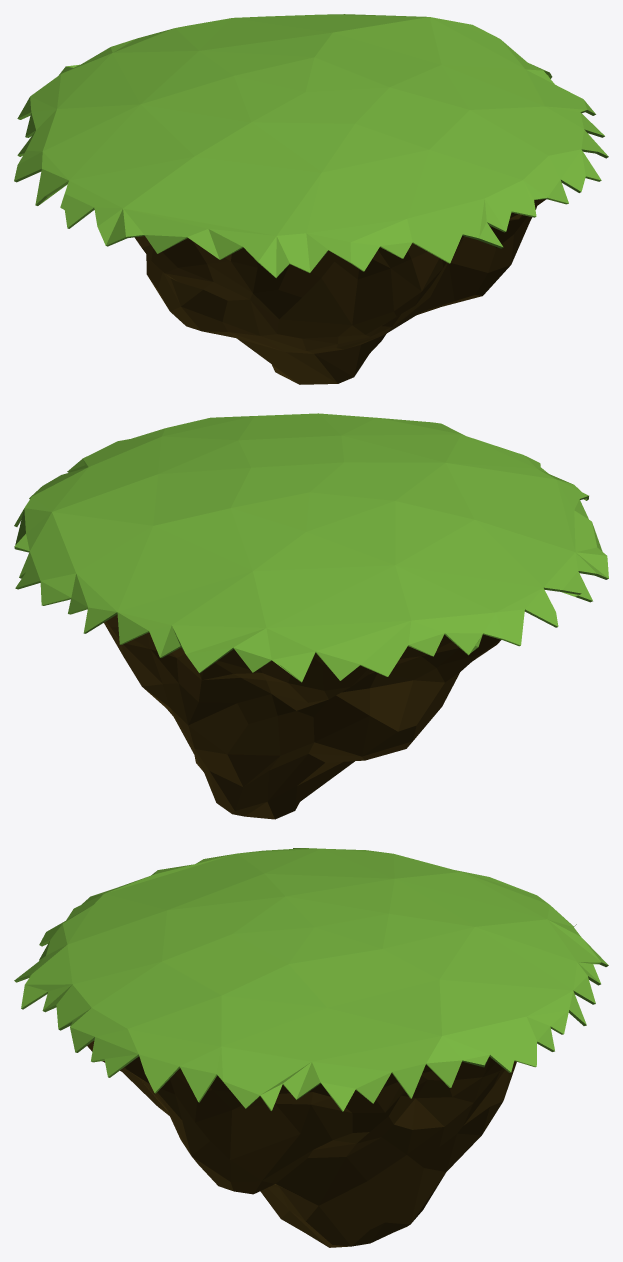
Rendered from Floating_Island.fbx.
The picture shows the model from 3 angles, top to bottom: view 1: azimuth 30°, elevation 25°; view 2: azimuth 150°, elevation 25°; view 3: azimuth 270°, elevation 25°; orthographic projection. The views are drawn at different scales.
Parts seen in each view (by area): view 1: Floating_Island; view 2: Floating_Island; view 3: Floating_Island.
Boxes of the visible parts, x1,y1,x2,y2 form: Floating_Island: (14,14,608,384); Floating_Island: (14,413,608,819); Floating_Island: (14,848,608,1247).
Bounding box in the file's own units: 1472 × 828 × 1478.
